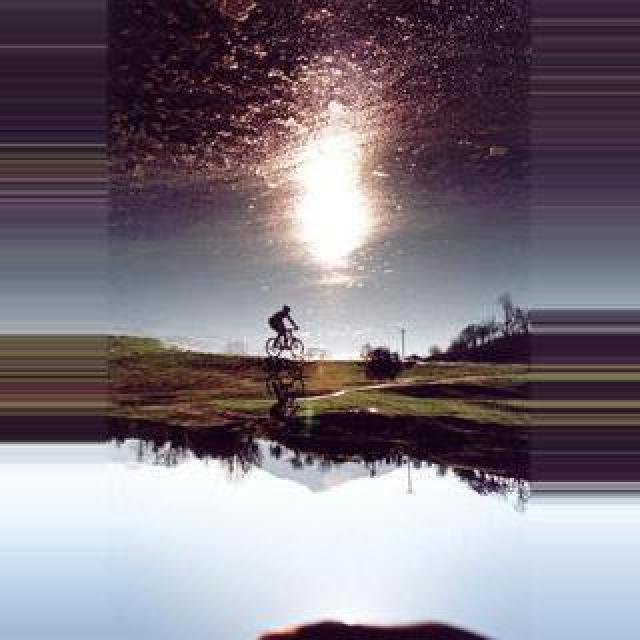MC-Bike: (268, 304, 298, 352)
Person: (265, 329, 303, 359)
